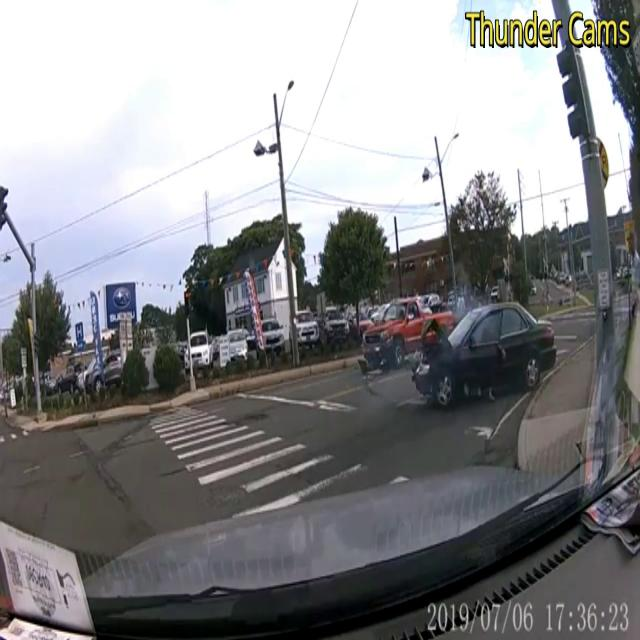accident: (410, 299, 558, 406)
